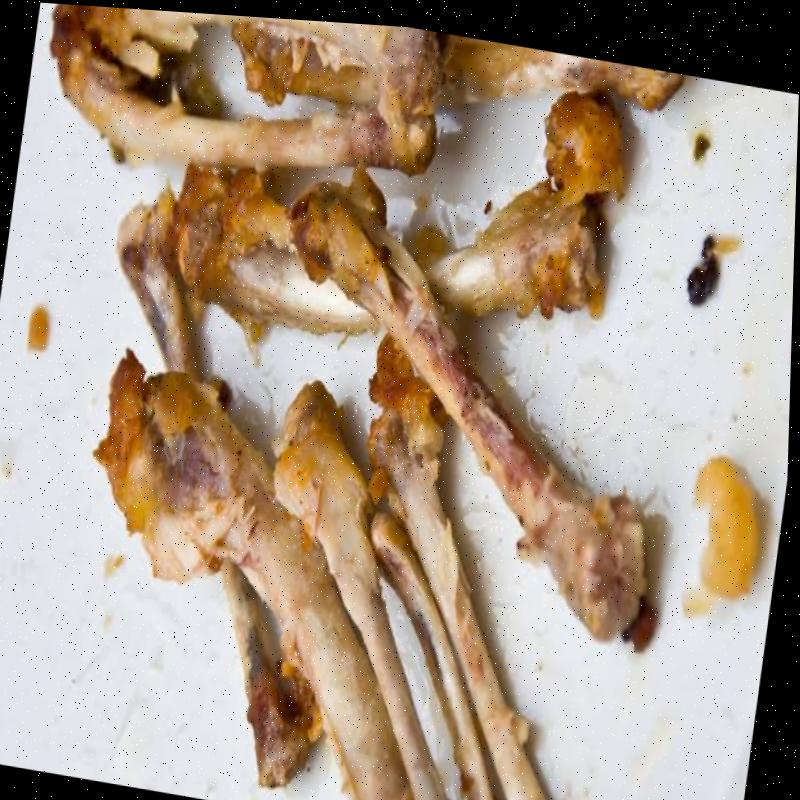left-over food: (286, 162, 663, 655), (87, 350, 410, 800), (367, 323, 550, 800), (266, 375, 452, 800), (53, 4, 459, 170), (359, 468, 494, 800), (423, 89, 623, 313), (177, 166, 371, 352), (216, 567, 307, 782), (438, 34, 678, 107), (119, 189, 211, 372), (234, 22, 379, 106), (690, 450, 771, 600)
